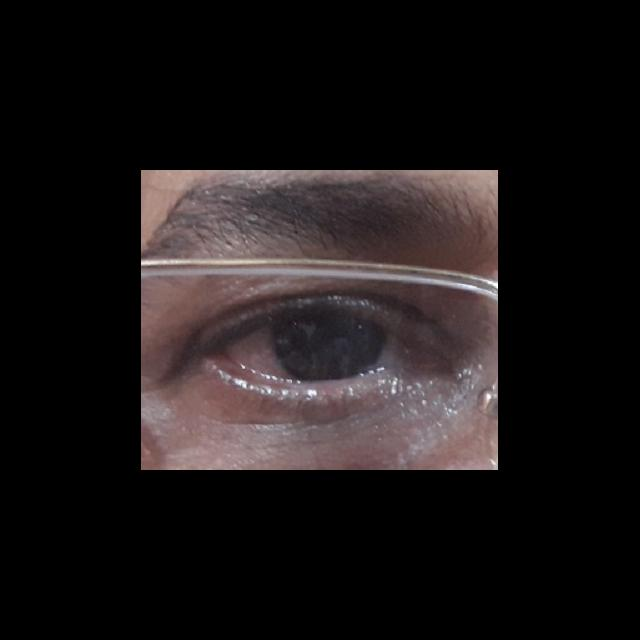eye: (222, 315, 410, 381)
iris: (272, 320, 386, 381)
